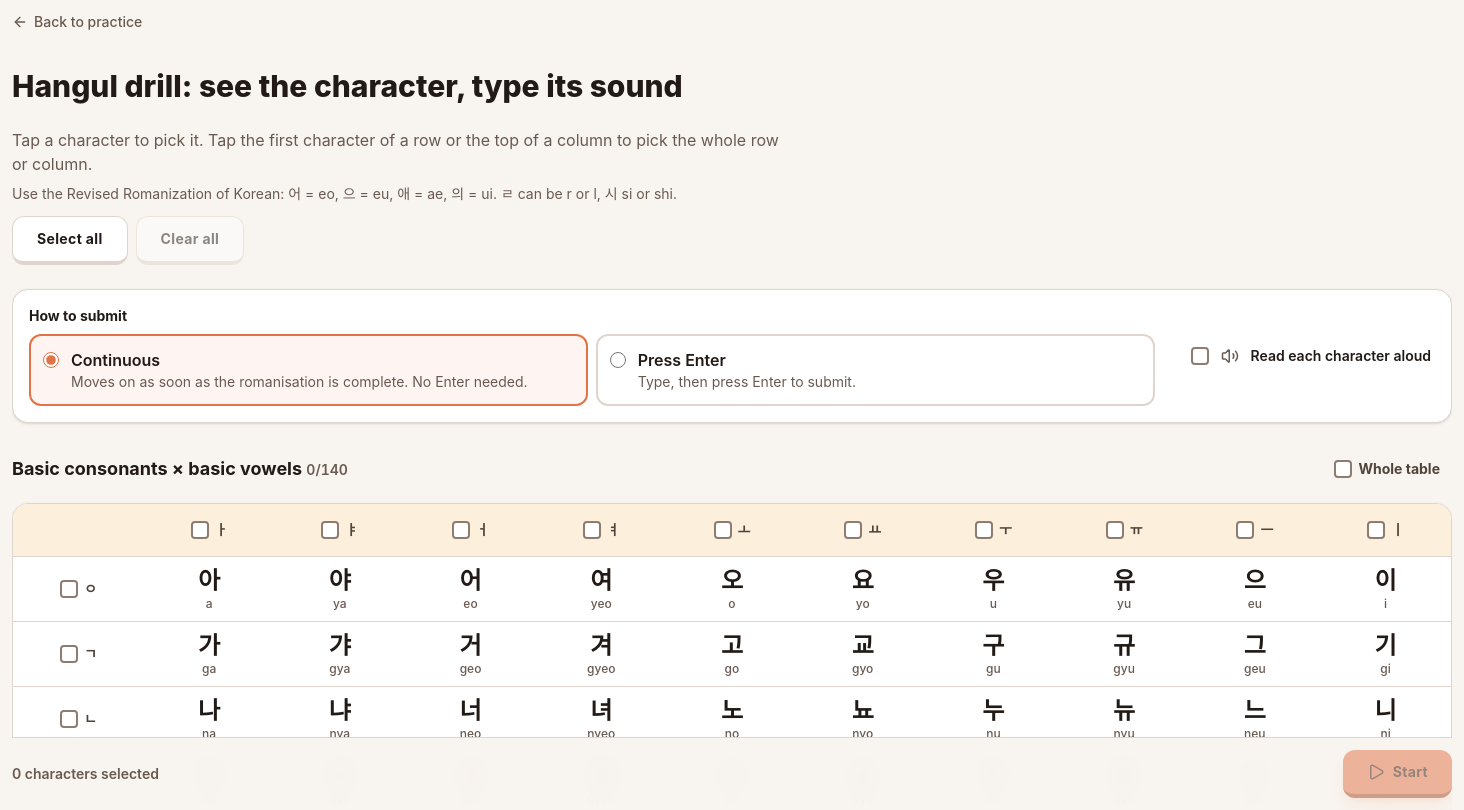
Test: ScriptDrillPage › waits for Enter in Enter mode and starts Korean straight at the tables
Click the radio button labelled "Press Enter Type, then press Enter to submit." at [618, 360], box 610,352 -> 626,368
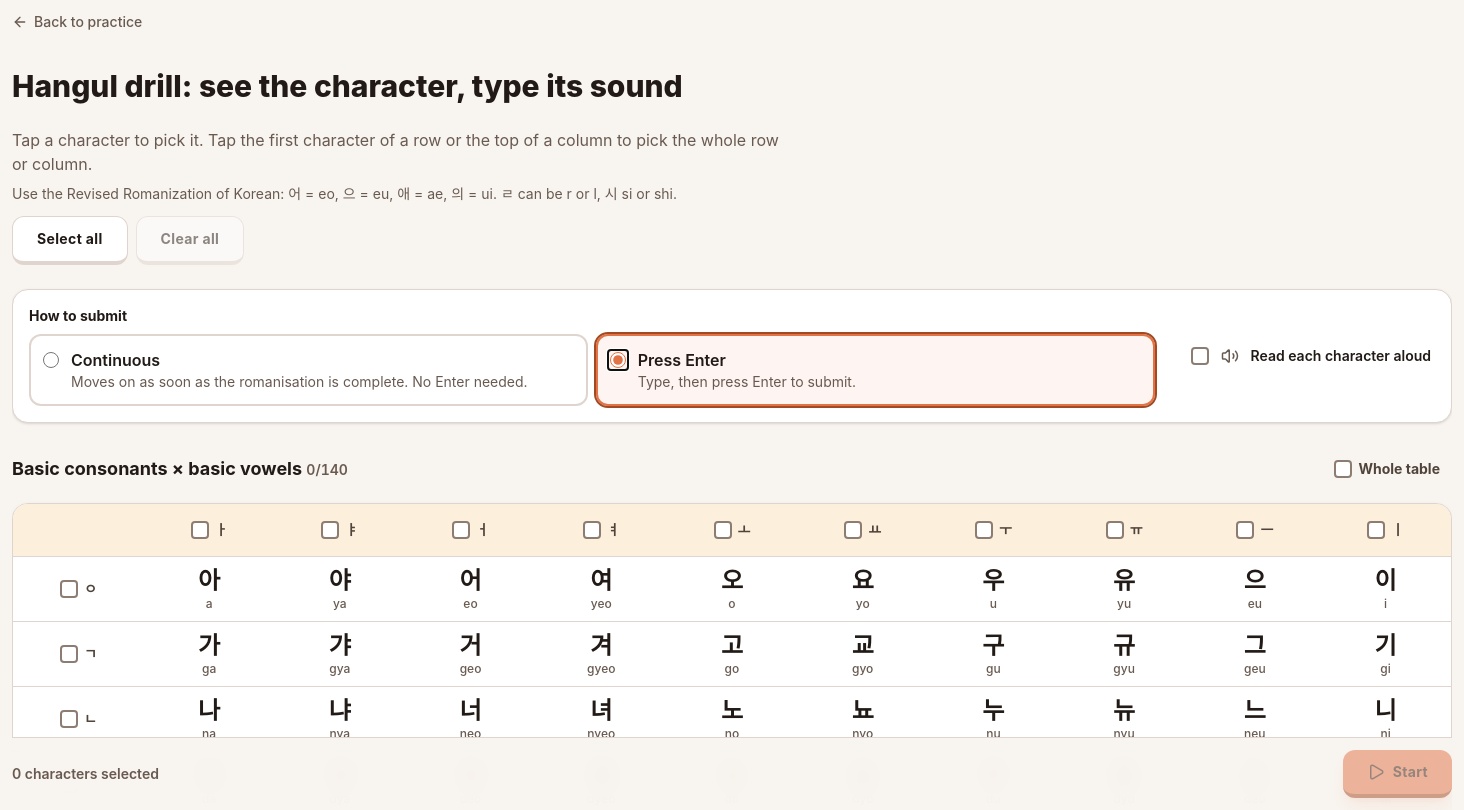
Click the checkbox labelled "거 geo" at [471, 654], box 409,626 -> 532,682
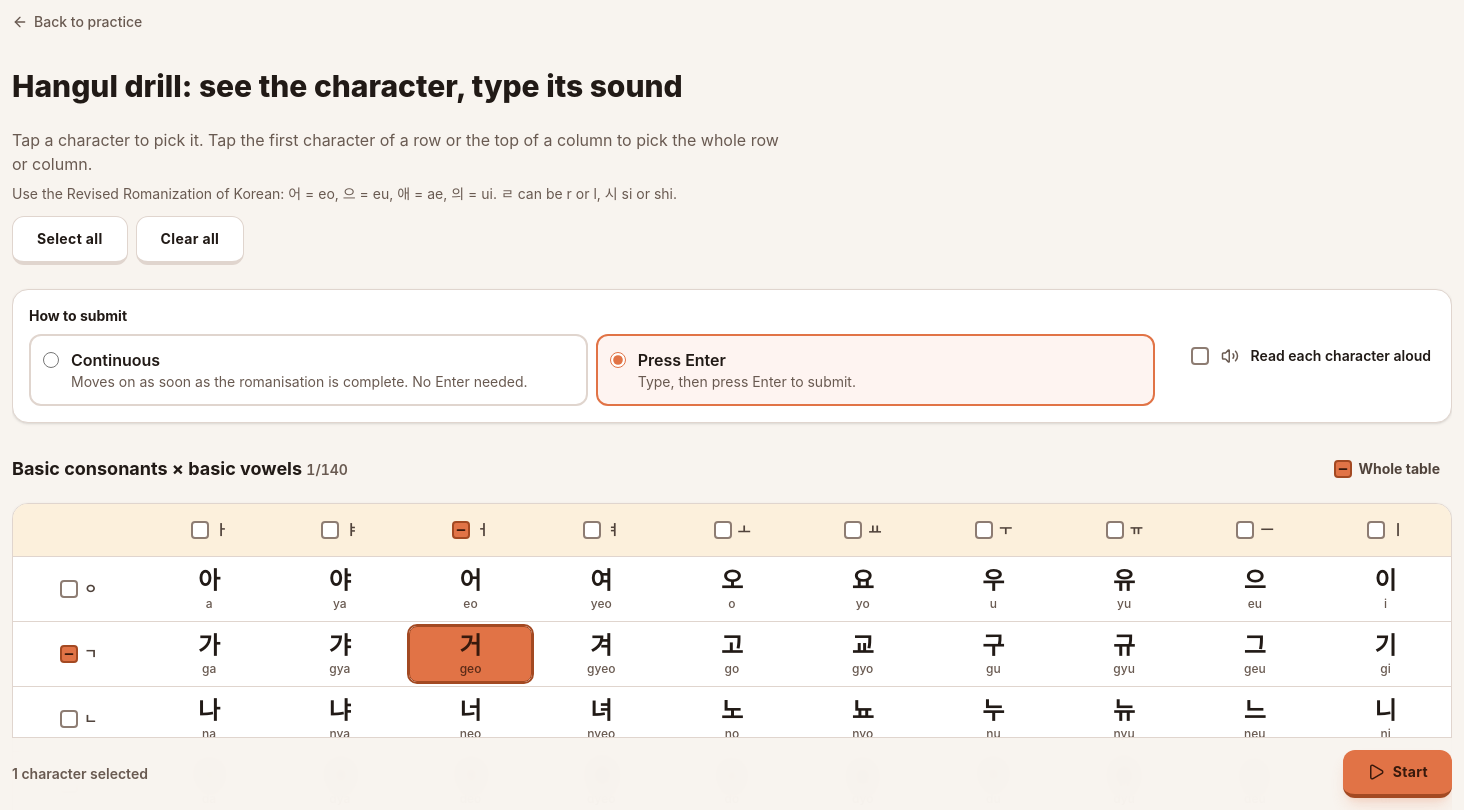
Click the button "Start" at [1397, 774], box 1343,750 -> 1452,798
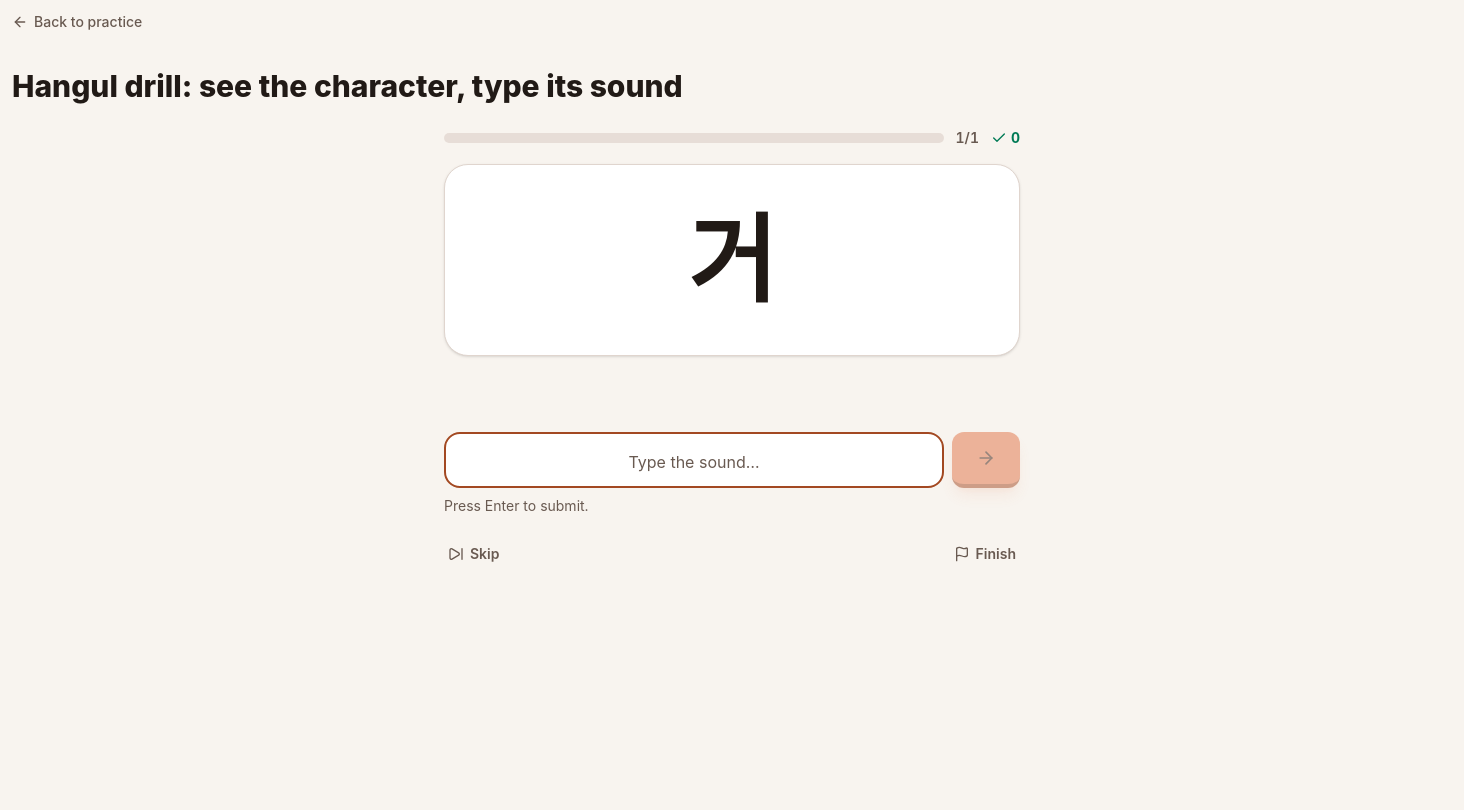
Type "geo" into the field named "Romanisation of this character" at [694, 460], box 444,432 -> 944,488
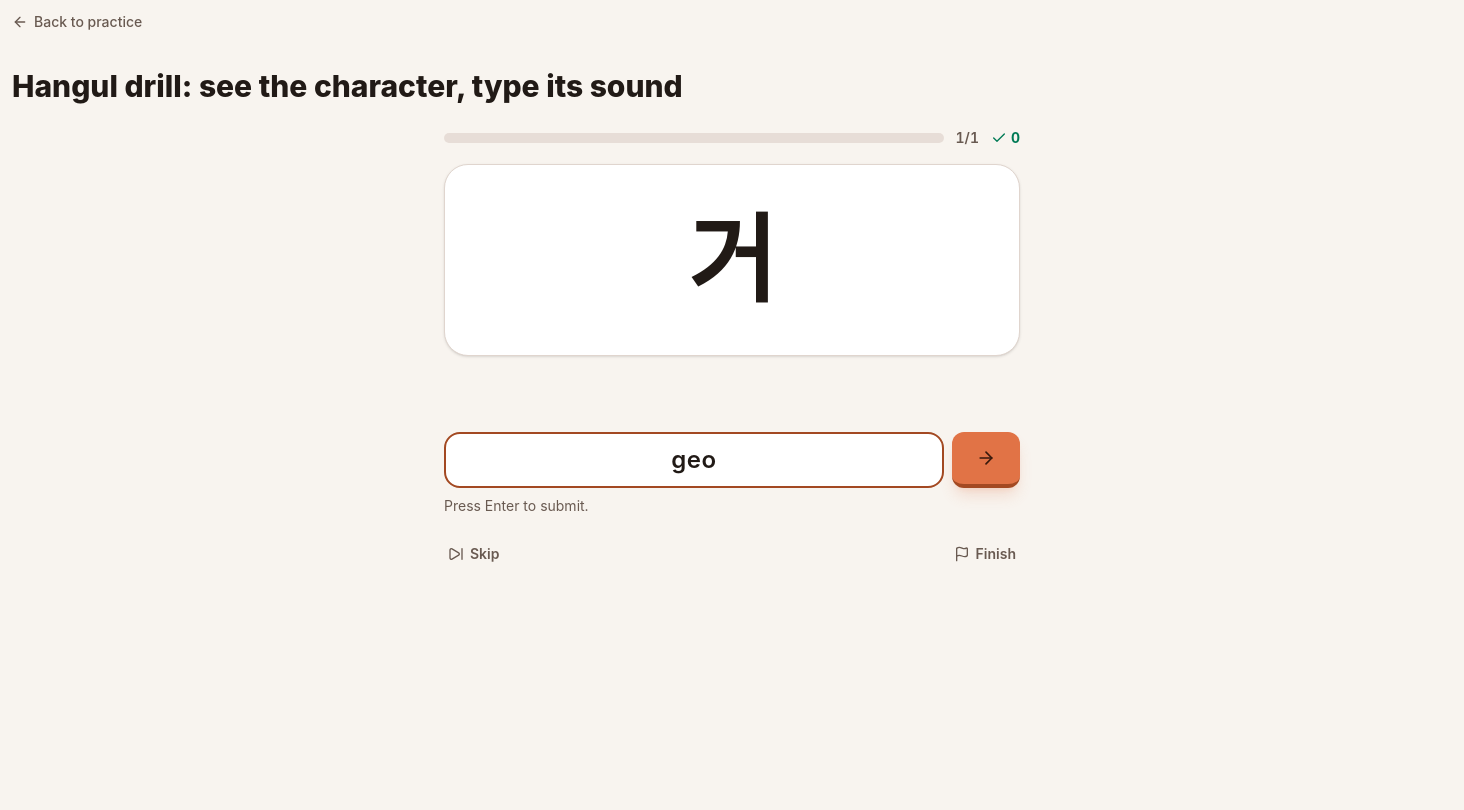
Expected: the heading "Done!" is not shown
Press Enter
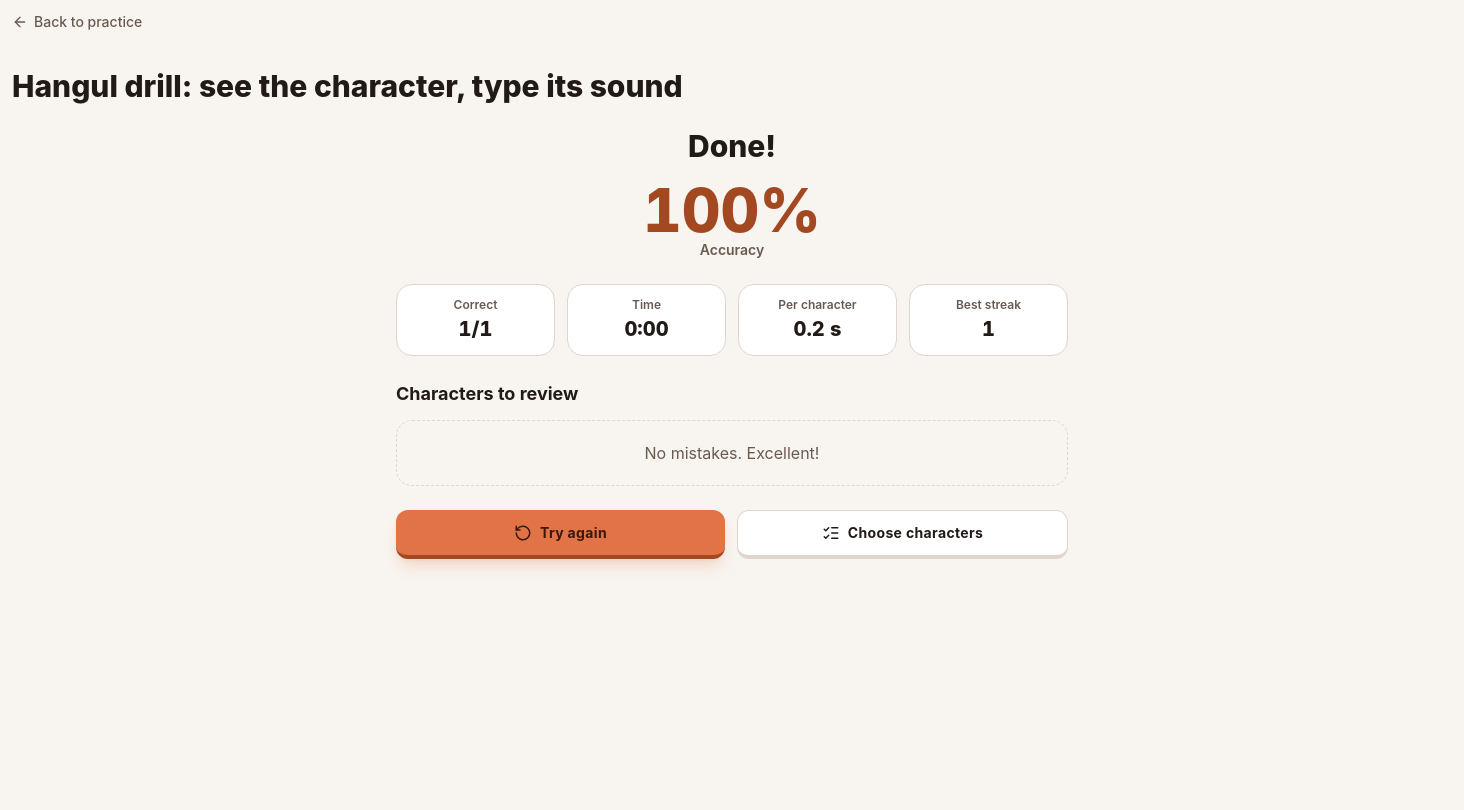
Result: the heading "Done!" is shown at 688,128 -> 776,164
Result: the text "100%" is shown at 643,174 -> 821,246
